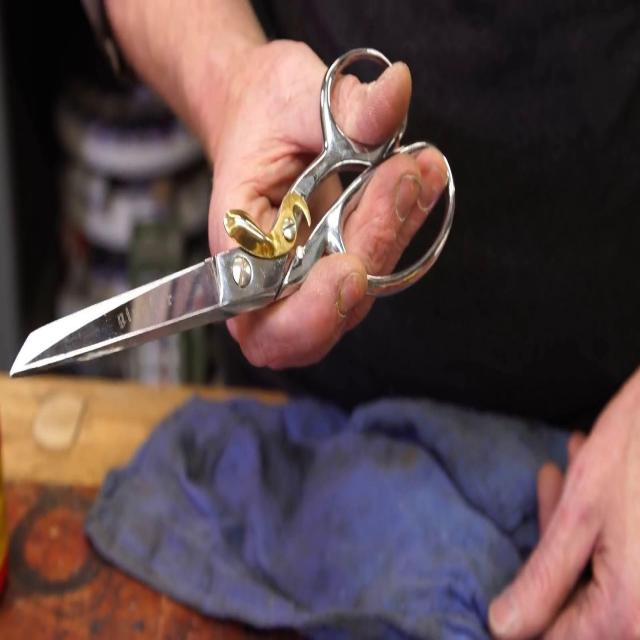scissor: (8, 47, 456, 378)
